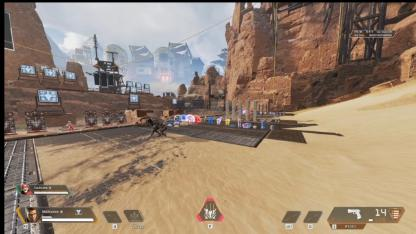Target: (143, 118, 169, 138), (68, 119, 74, 130)
